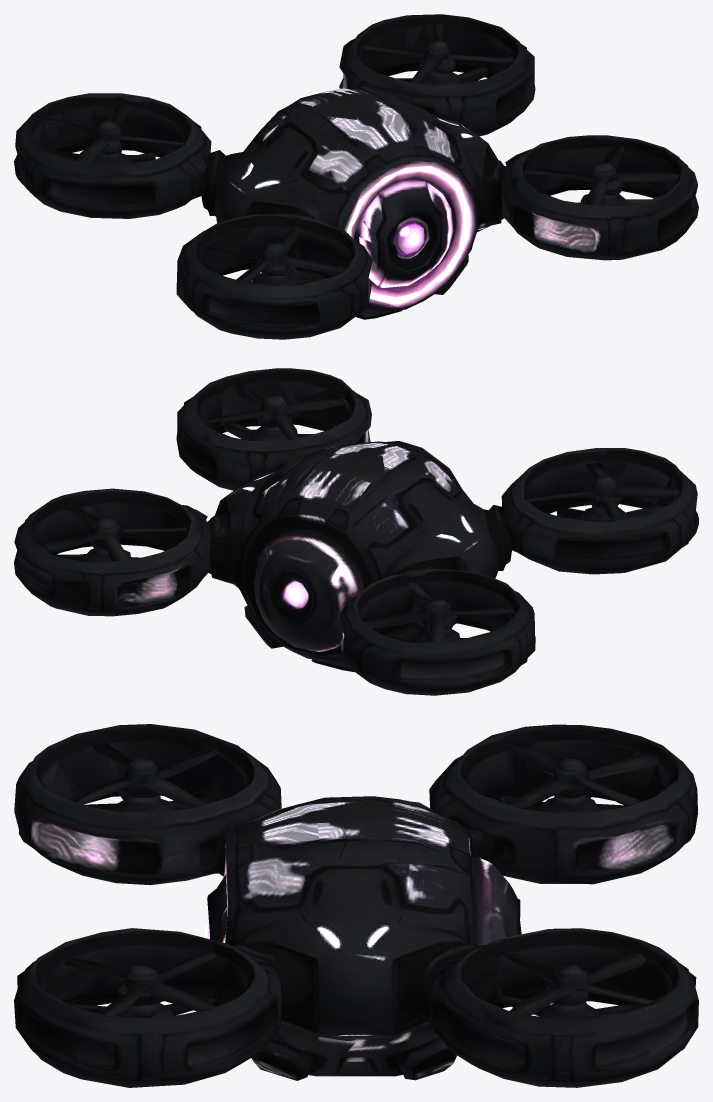
The model's file is drone.glb.
The picture shows the model from 3 angles, top to bottom: view 1: azimuth 30°, elevation 25°; view 2: azimuth 150°, elevation 25°; view 3: azimuth 270°, elevation 25°; orthographic projection. The views are drawn at different scales.
Visible parts, largest first — view 1: DroneBody, Rotor3, Rotor2, Rotor4, Rotor1; view 2: DroneBody, Rotor3, Rotor1, Rotor4, Rotor2; view 3: DroneBody, Rotor2, Rotor4, Rotor3, Rotor1.
Part boxes in pixels (bbox=[...]): DroneBody: bbox=[14, 14, 698, 339]; Rotor3: bbox=[39, 95, 192, 164]; Rotor2: bbox=[521, 140, 678, 205]; Rotor4: bbox=[354, 22, 513, 84]; Rotor1: bbox=[198, 214, 354, 285]; DroneBody: bbox=[14, 368, 698, 695]; Rotor3: bbox=[353, 568, 514, 642]; Rotor1: bbox=[524, 454, 679, 520]; Rotor4: bbox=[32, 501, 192, 562]; Rotor2: bbox=[198, 381, 355, 440]; DroneBody: bbox=[14, 724, 698, 1087]; Rotor2: bbox=[42, 928, 245, 1017]; Rotor4: bbox=[466, 928, 668, 1017]; Rotor3: bbox=[464, 739, 669, 884]; Rotor1: bbox=[51, 741, 244, 813].
Bounding box in the file's own units: 1.4 × 0.514 × 1.3.
Materials: 1 (1 with a texture image).
